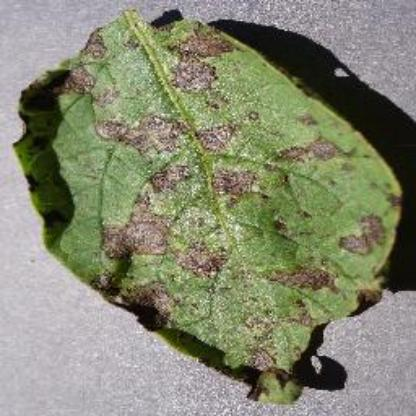Early-Blight: (13, 8, 403, 406)
